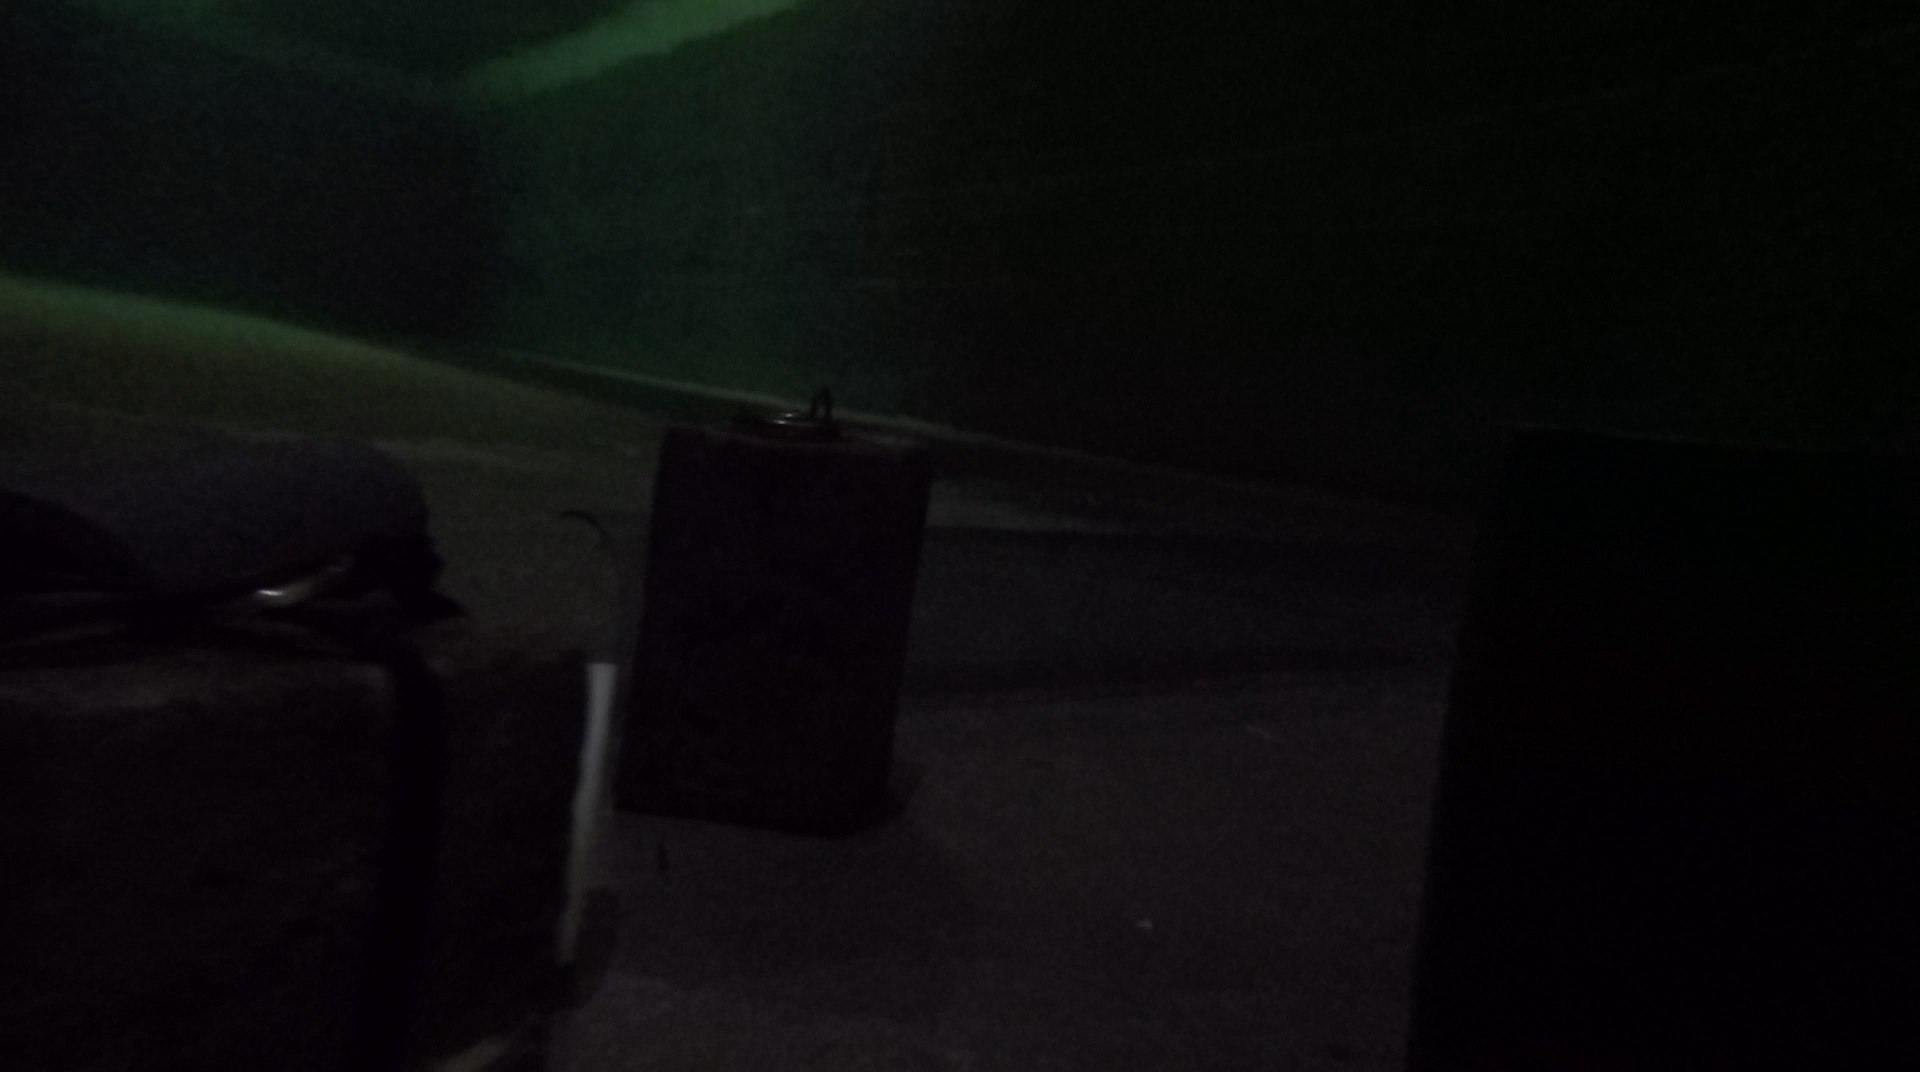led_block: (1, 545, 585, 1069), (613, 385, 932, 836)
pipe: (1396, 426, 1920, 1071), (905, 521, 1461, 711), (3, 435, 431, 579)
